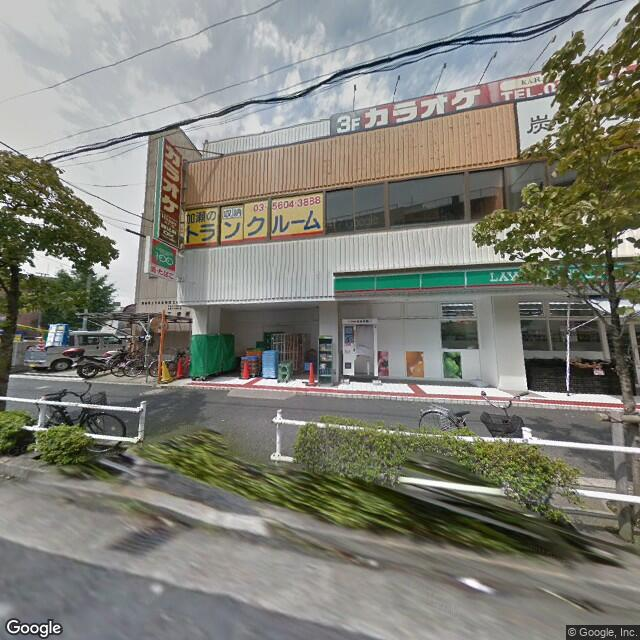lawson: (332, 256, 640, 288)
